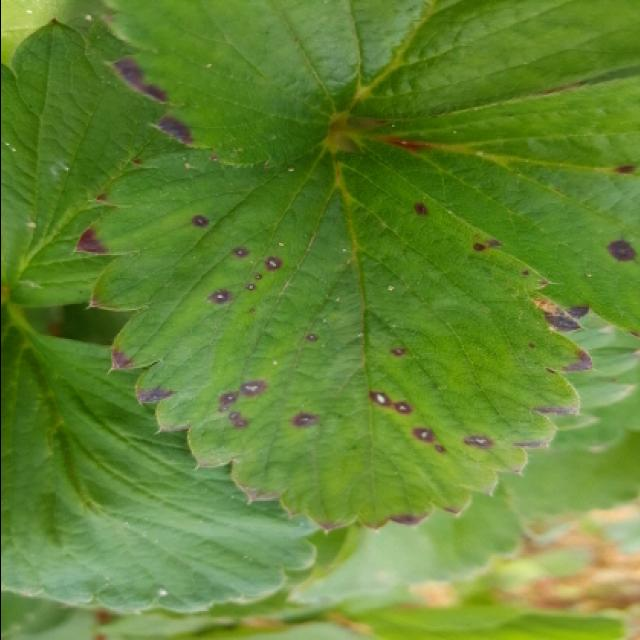Leaf Spot: (71, 135, 594, 535), (348, 75, 640, 339)
